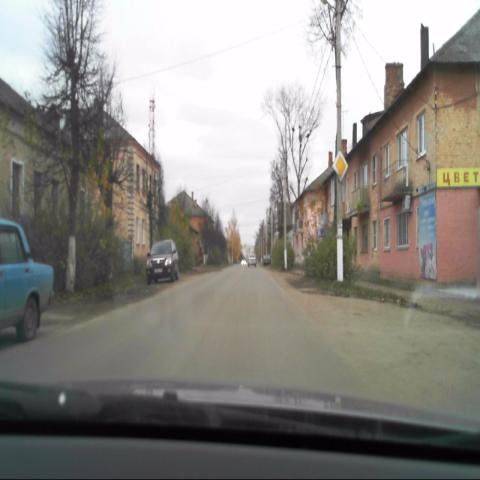2_1: (332, 150, 349, 182)
